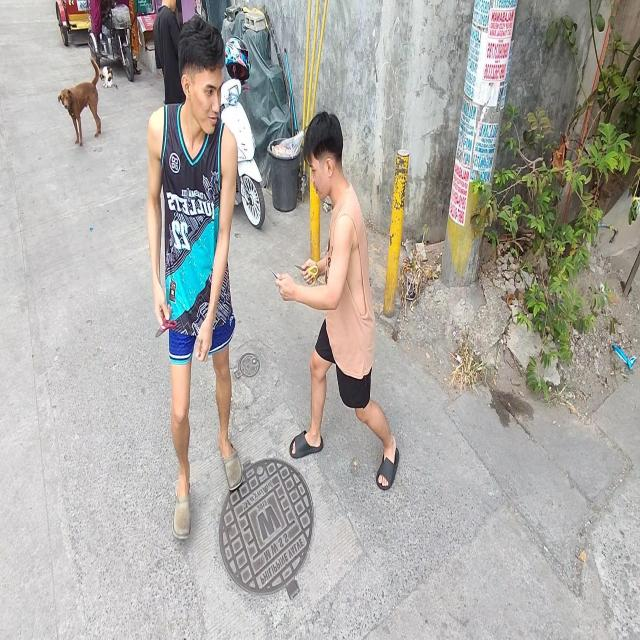scissor: (295, 264, 318, 286), (154, 316, 177, 338)
